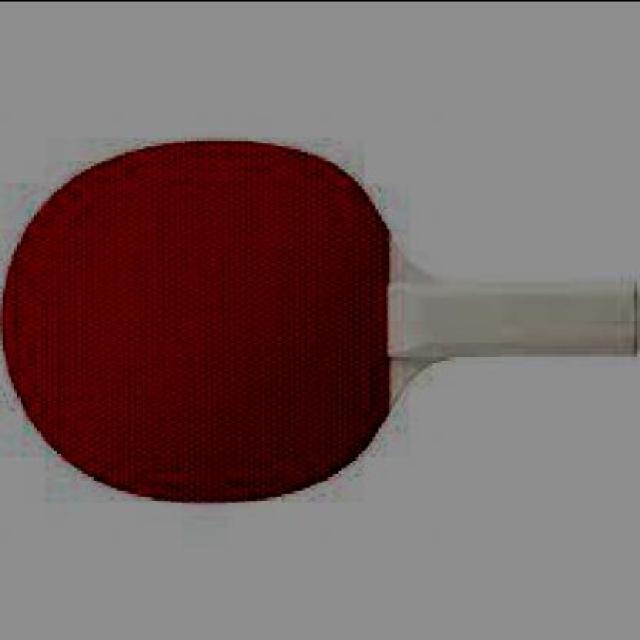table_tennis_racket: (0, 130, 415, 512)
